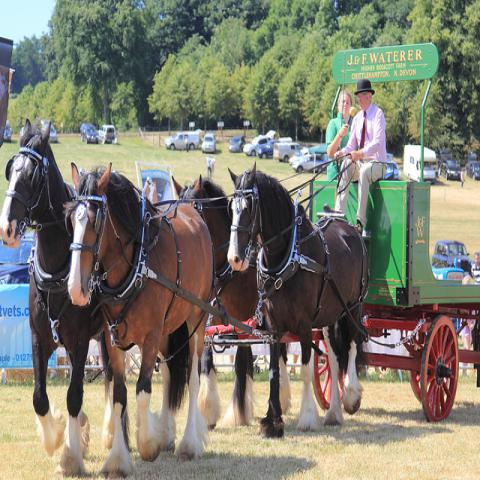car: (2, 122, 472, 286), (292, 154, 326, 174), (436, 154, 461, 181), (164, 132, 199, 150), (243, 134, 272, 155), (257, 140, 281, 159), (97, 124, 118, 145), (40, 119, 58, 142), (80, 123, 99, 144), (464, 157, 480, 181), (288, 149, 310, 165), (228, 136, 246, 152), (386, 161, 401, 180), (202, 133, 216, 153)
truck: (403, 144, 436, 184), (272, 143, 303, 162), (265, 128, 293, 143)
